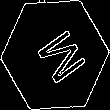M_SW: (25, 22, 85, 88)
